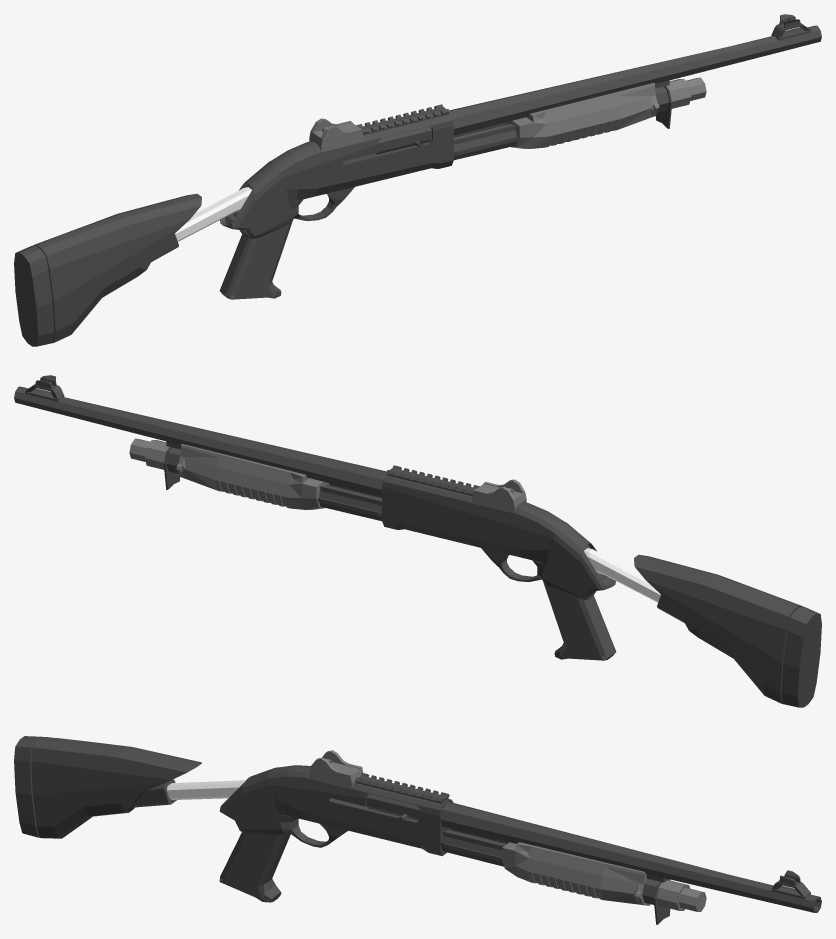
Rendered from Benelli M3 Super.fbx.
3 renders of one model, top to bottom at view 1: azimuth 30°, elevation 25°; view 2: azimuth 150°, elevation 25°; view 3: azimuth 330°, elevation 25°, orthographic.
Parts seen in each view (by area): view 1: Base, Handguard, Rear Sight, Top Rail, Mag Cap, Bolt; view 2: Base, Handguard, Rear Sight, Top Rail, Mag Cap; view 3: Base, Handguard, Rear Sight, Mag Cap, Top Rail, Bolt.
Boxes of the visible parts, x1=… form: Base: x1=14, y1=14, x2=821, y2=346; Handguard: x1=507, y1=83, x2=659, y2=148; Rear Sight: x1=309, y1=118, x2=363, y2=151; Top Rail: x1=356, y1=104, x2=449, y2=135; Mag Cap: x1=667, y1=77, x2=706, y2=108; Bolt: x1=375, y1=126, x2=431, y2=154; Base: x1=14, y1=375, x2=821, y2=707; Handguard: x1=176, y1=444, x2=328, y2=509; Rear Sight: x1=472, y1=479, x2=526, y2=512; Top Rail: x1=386, y1=465, x2=479, y2=496; Mag Cap: x1=129, y1=438, x2=168, y2=469; Base: x1=14, y1=736, x2=821, y2=924; Handguard: x1=502, y1=842, x2=650, y2=905; Rear Sight: x1=309, y1=750, x2=363, y2=788; Mag Cap: x1=656, y1=880, x2=706, y2=911; Top Rail: x1=355, y1=773, x2=449, y2=803; Bolt: x1=366, y1=793, x2=419, y2=821.
Size of the model in its own units: 290 by 55.3 by 13.3.
